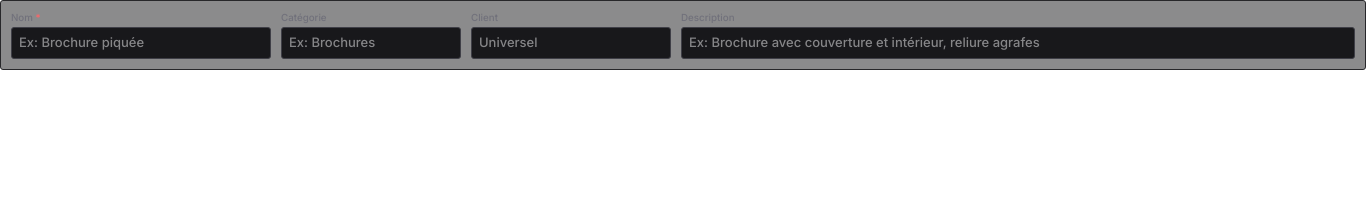
Test: JcfTemplateHeaderForm › shows category suggestions from existing templates
Focus the field labelled "Catégorie" at (371, 43), box x1=281 y1=27 x2=461 y2=58
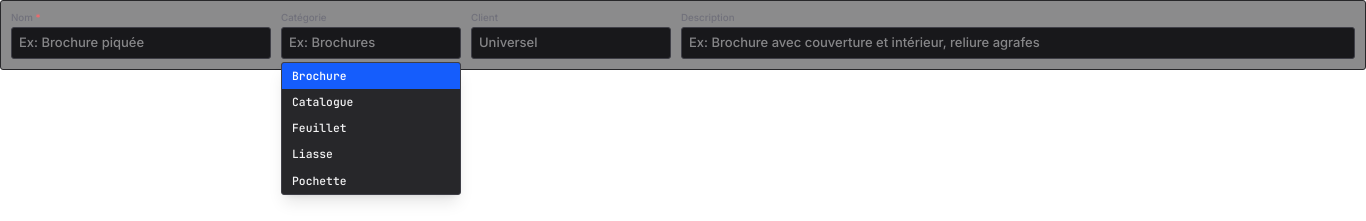
Result: the text "Brochure" is shown at x1=292 y1=68 x2=346 y2=82
Result: the text "Feuillet" is shown at x1=292 y1=120 x2=346 y2=135
